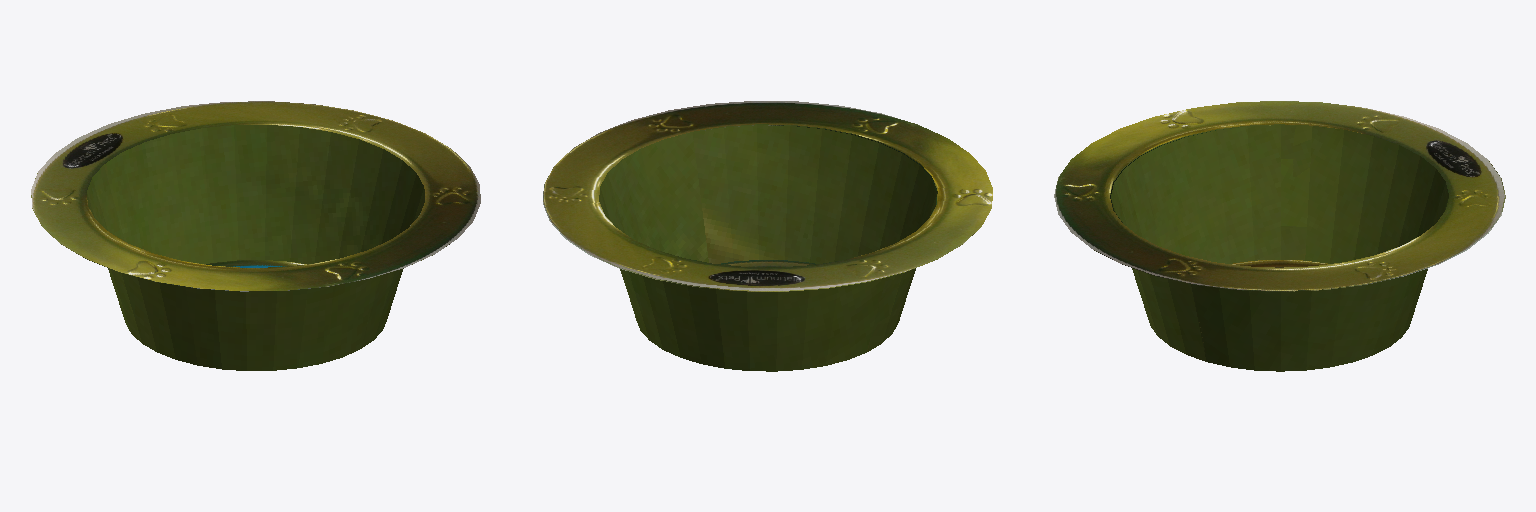
3 views of the same model, side by side, from view 1: azimuth 30°, elevation 25°; view 2: azimuth 150°, elevation 25°; view 3: azimuth 270°, elevation 25° (orthographic).
Bounding box in the file's own units: 0.1201 × 0.0352 × 0.1203.
1 materials, 1 textured.